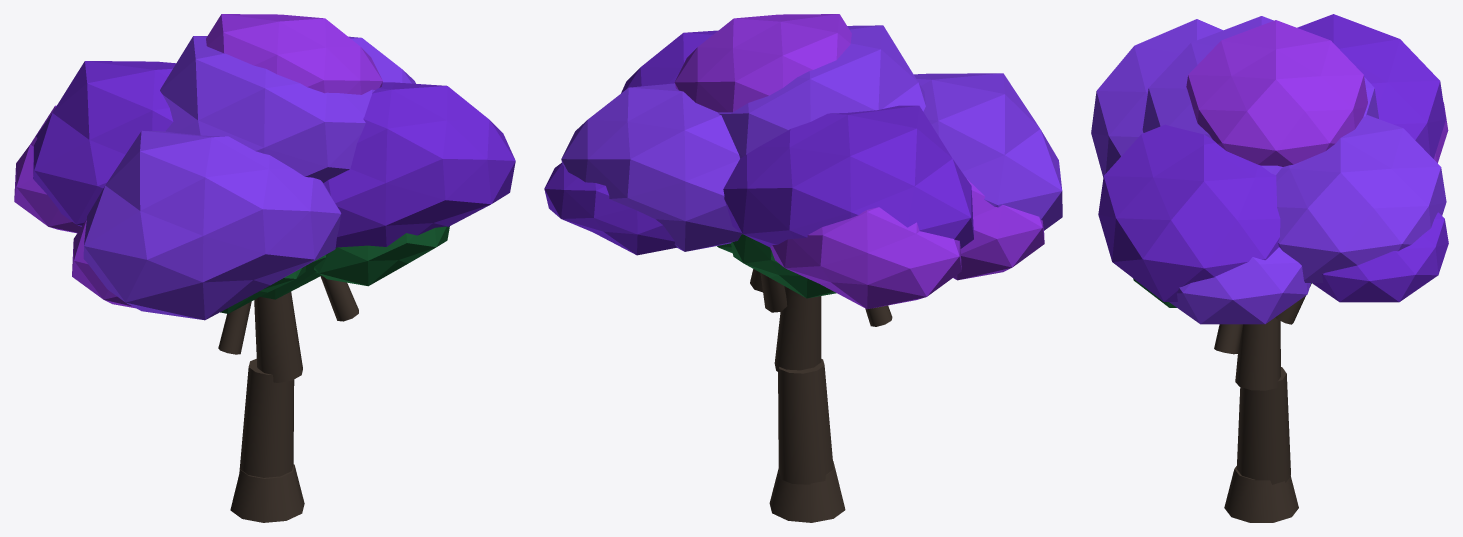
The model's file is env_jacaranda_tree_01.glb.
The picture shows the model from 3 angles, left to right: view 1: azimuth 30°, elevation 25°; view 2: azimuth 150°, elevation 25°; view 3: azimuth 270°, elevation 25°; orthographic projection. The views are drawn at different scales.
Visible parts, largest first — view 1: Canopy_NW_Mid, Canopy_NE_Mid, Canopy_Crown_Center, Canopy_SW_Mid, Jacaranda_Tree_HighFi, Canopy_Top_Highlight, Canopy_NE_GreenInterior, Canopy_SW_Outer, Canopy_NW_Outer, Jacaranda_Limb_0, Jacaranda_Limb_1, Canopy_SE_Mid (+2 smaller); view 2: Canopy_SW_Mid, Canopy_SE_Mid, Canopy_NW_Mid, Canopy_SW_Outer, Jacaranda_Tree_HighFi, Canopy_Top_Highlight, Canopy_Crown_Center, Canopy_SE_Outer, Canopy_NW_Outer, Canopy_NE_Mid, Canopy_SW_GreenInterior, Jacaranda_Limb_2; view 3: Canopy_NE_Mid, Canopy_Top_Highlight, Canopy_SE_Mid, Jacaranda_Tree_HighFi, Canopy_SW_Mid, Canopy_NW_Mid, Canopy_NE_Outer, Canopy_SE_Outer, Canopy_Crown_Center, Jacaranda_Limb_1.
Boxes of the visible parts, box(x1,y1,x2,y2) form: Canopy_NW_Mid: box(83, 130, 341, 320); Canopy_NE_Mid: box(323, 82, 515, 247); Canopy_Crown_Center: box(160, 36, 374, 182); Canopy_SW_Mid: box(33, 61, 175, 226); Jacaranda_Tree_HighFi: box(230, 292, 304, 522); Canopy_Top_Highlight: box(206, 14, 382, 94); Canopy_NE_GreenInterior: box(314, 226, 449, 286); Canopy_SW_Outer: box(14, 105, 81, 233); Canopy_NW_Outer: box(72, 219, 135, 308); Jacaranda_Limb_0: box(218, 301, 251, 354); Jacaranda_Limb_1: box(320, 275, 358, 321); Canopy_SE_Mid: box(348, 36, 415, 83); Canopy_SW_Mid: box(723, 105, 973, 248); Canopy_SE_Mid: box(561, 83, 741, 251); Canopy_NW_Mid: box(914, 73, 1062, 230); Canopy_SW_Outer: box(770, 207, 961, 309); Jacaranda_Tree_HighFi: box(769, 286, 845, 522); Canopy_Top_Highlight: box(674, 14, 851, 112); Canopy_Crown_Center: box(718, 25, 925, 158); Canopy_SE_Outer: box(544, 162, 677, 255); Canopy_NW_Outer: box(953, 179, 1044, 280); Canopy_NE_Mid: box(621, 30, 718, 93); Canopy_SW_GreenInterior: box(731, 234, 836, 298); Jacaranda_Limb_2: box(760, 273, 787, 312); Canopy_NE_Mid: box(1098, 124, 1280, 301); Canopy_Top_Highlight: box(1186, 20, 1367, 166); Canopy_SE_Mid: box(1276, 115, 1446, 282); Jacaranda_Tree_HighFi: box(1224, 317, 1298, 522); Canopy_SW_Mid: box(1297, 14, 1445, 158); Canopy_NW_Mid: box(1091, 19, 1222, 177); Canopy_NE_Outer: box(1169, 247, 1310, 324); Canopy_SE_Outer: box(1312, 212, 1448, 302); Canopy_Crown_Center: box(1142, 16, 1378, 174); Jacaranda_Limb_1: box(1214, 324, 1242, 354).
Bounding box in the file's own units: 6.87 × 7.22 × 4.98.
